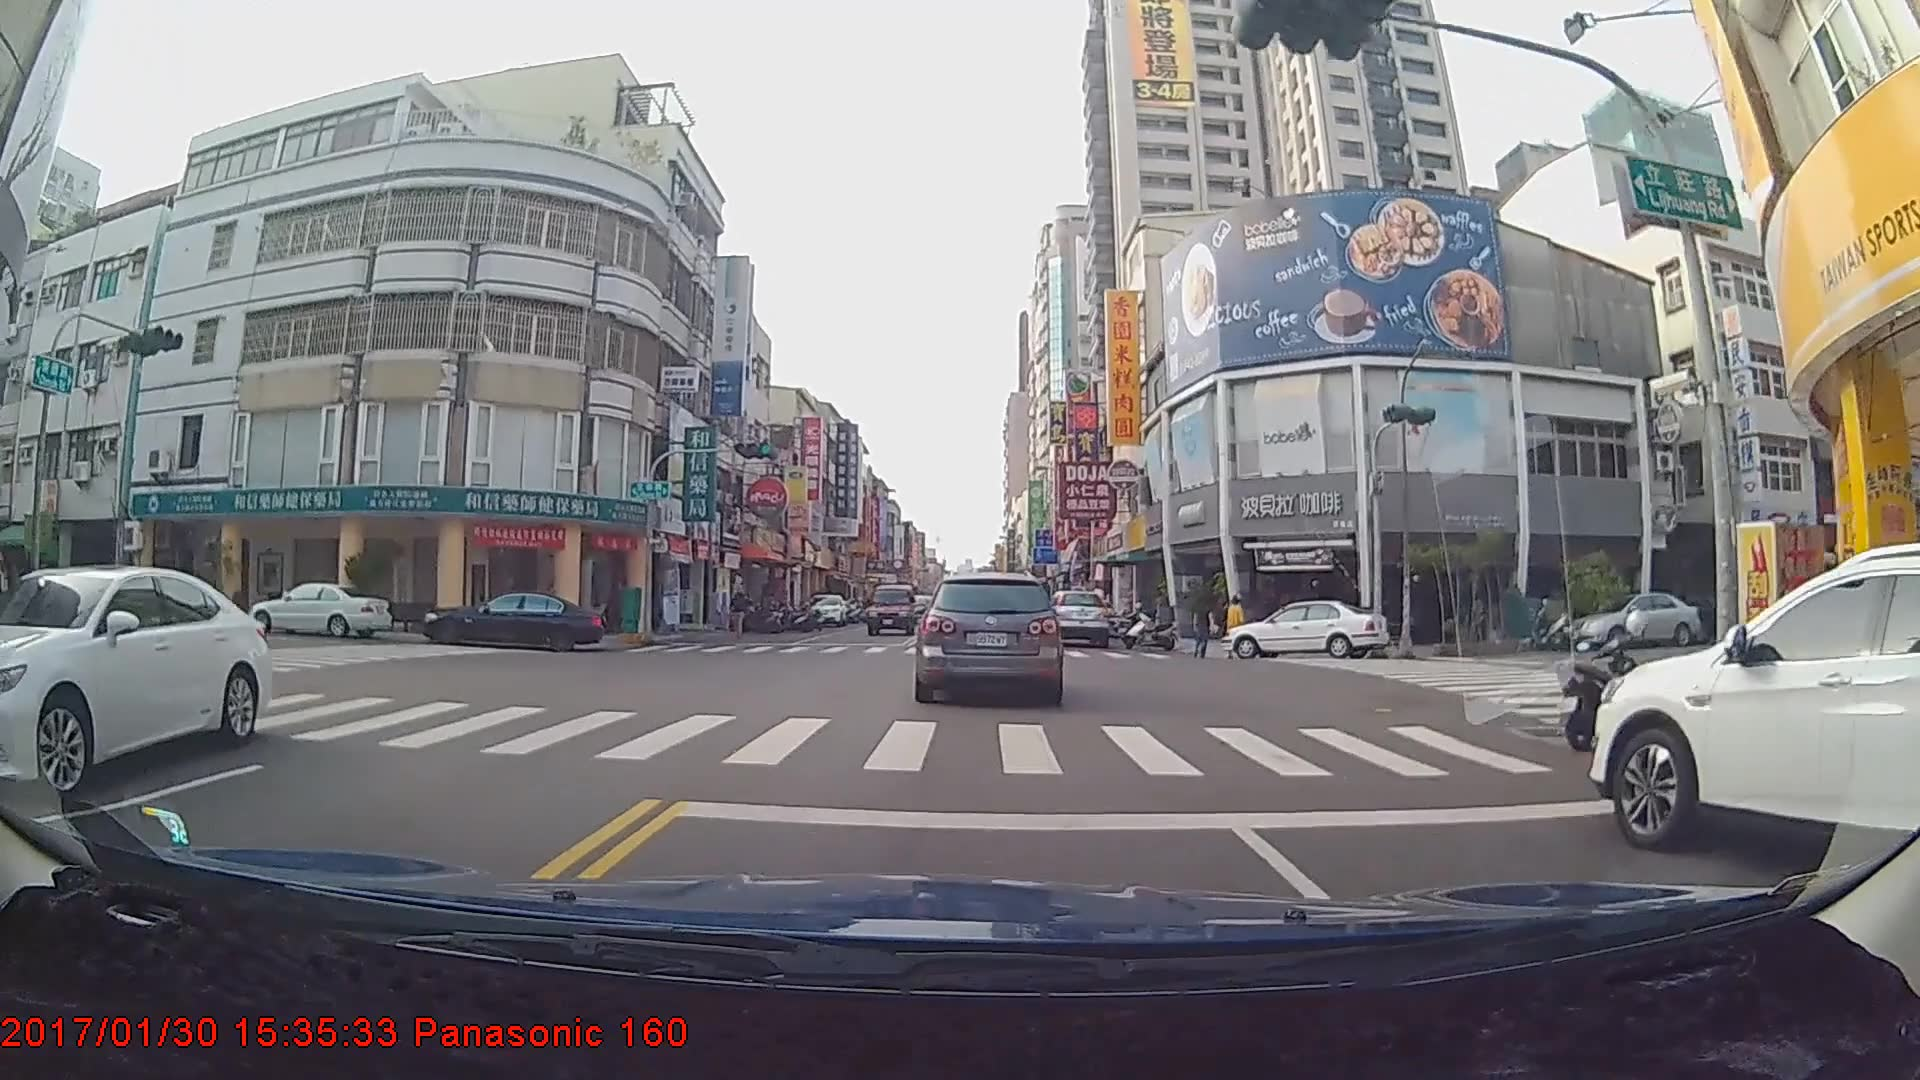pedestrian: (1191, 595, 1218, 657), (730, 586, 751, 641), (1226, 593, 1246, 651)
vehicle: (1590, 544, 1919, 924), (0, 563, 269, 807), (916, 569, 1060, 702), (417, 578, 603, 639), (1223, 595, 1388, 658), (244, 579, 390, 637), (1564, 590, 1700, 651), (1039, 585, 1110, 647), (865, 578, 915, 631), (800, 590, 846, 625)
